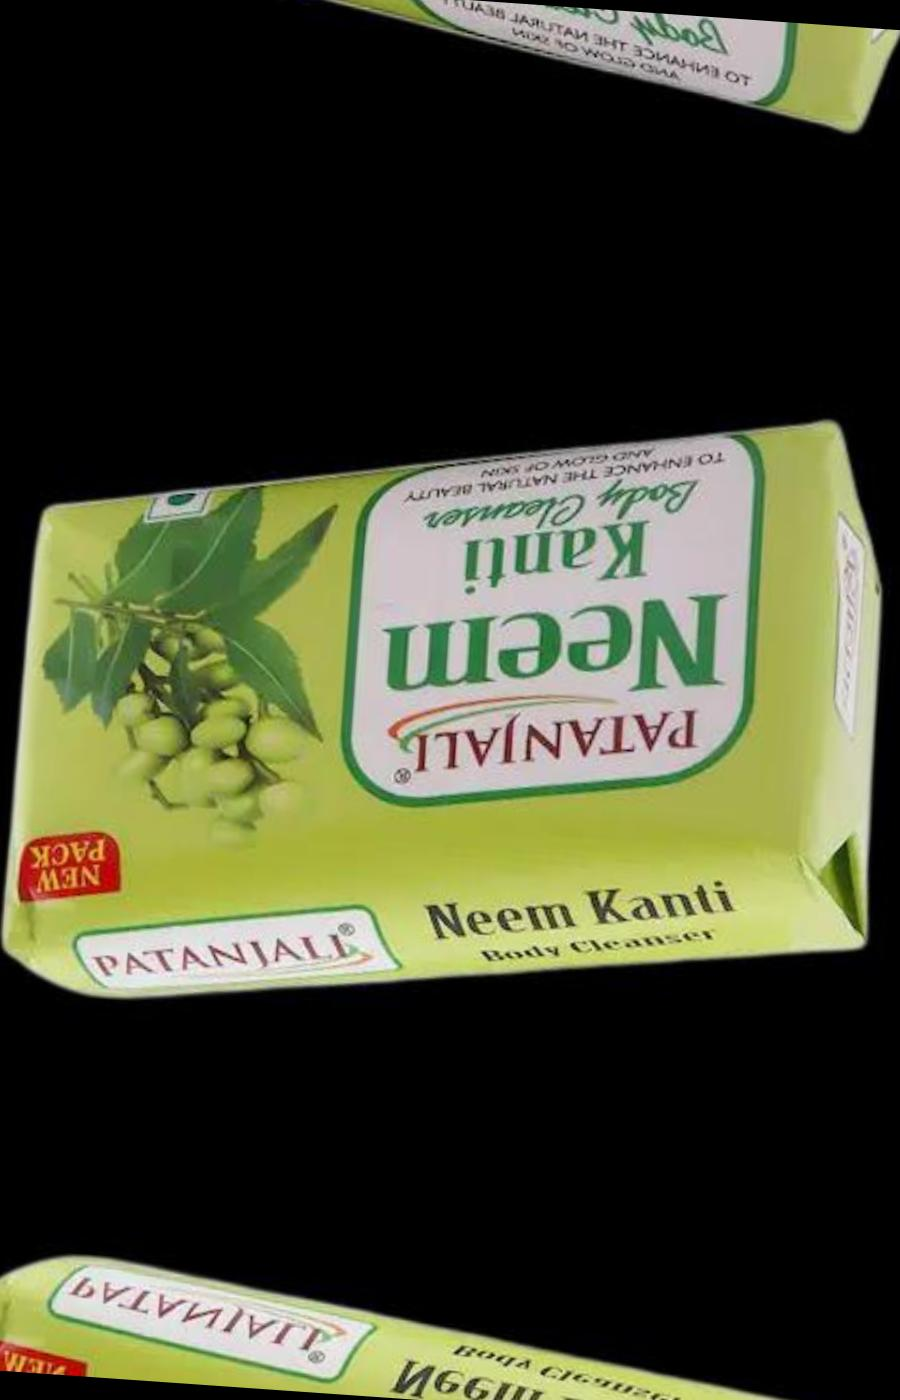Patanjali Neem Kanti Body Cleanser 75 g: (0, 372, 900, 1054)
